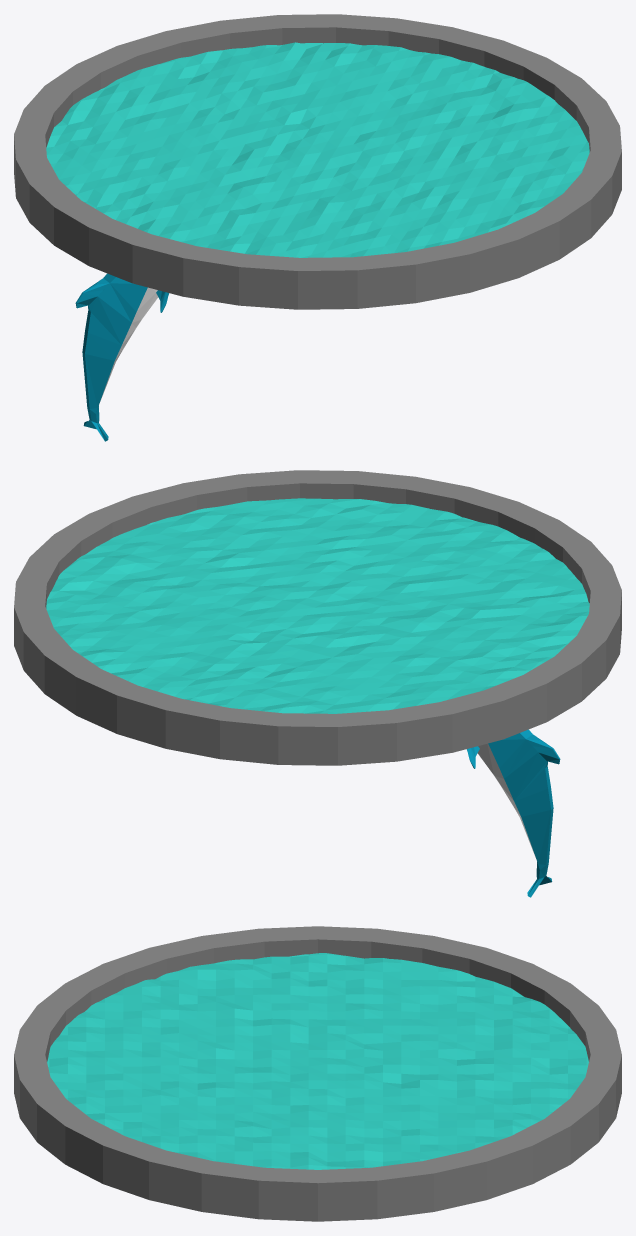
File: fontain.gltf
The picture shows the model from 3 angles, top to bottom: view 1: azimuth 30°, elevation 25°; view 2: azimuth 150°, elevation 25°; view 3: azimuth 270°, elevation 25°; orthographic projection.
Visible parts, largest first — view 1: water, pool, dolphin; view 2: water, pool, dolphin; view 3: water, pool.
Boxes of the visible parts, left/top/right/bottom form: water: left=46, top=42, right=589, bottom=257; pool: left=14, top=14, right=621, bottom=309; dolphin: left=75, top=273, right=168, bottom=441; water: left=46, top=498, right=589, bottom=713; pool: left=14, top=470, right=621, bottom=765; dolphin: left=467, top=729, right=560, bottom=897; water: left=47, top=953, right=588, bottom=1169; pool: left=14, top=926, right=621, bottom=1221.
Bounding box in the file's own units: 12.7 × 5.45 × 12.7.
